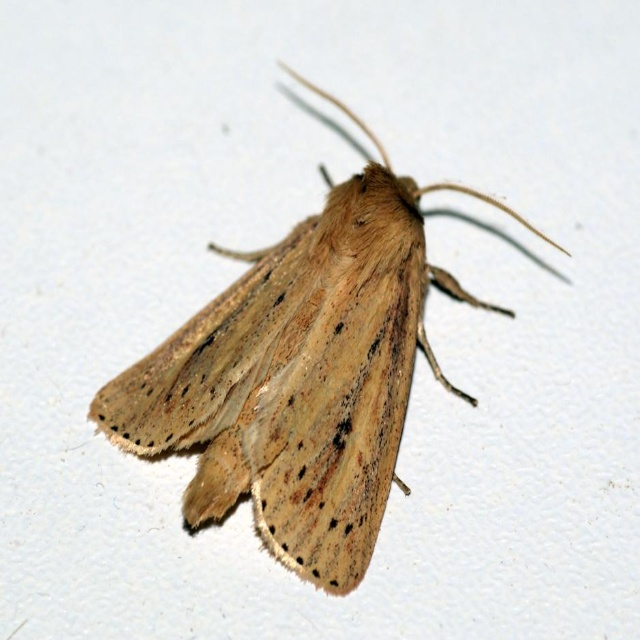Butterfly: (100, 63, 549, 590)
